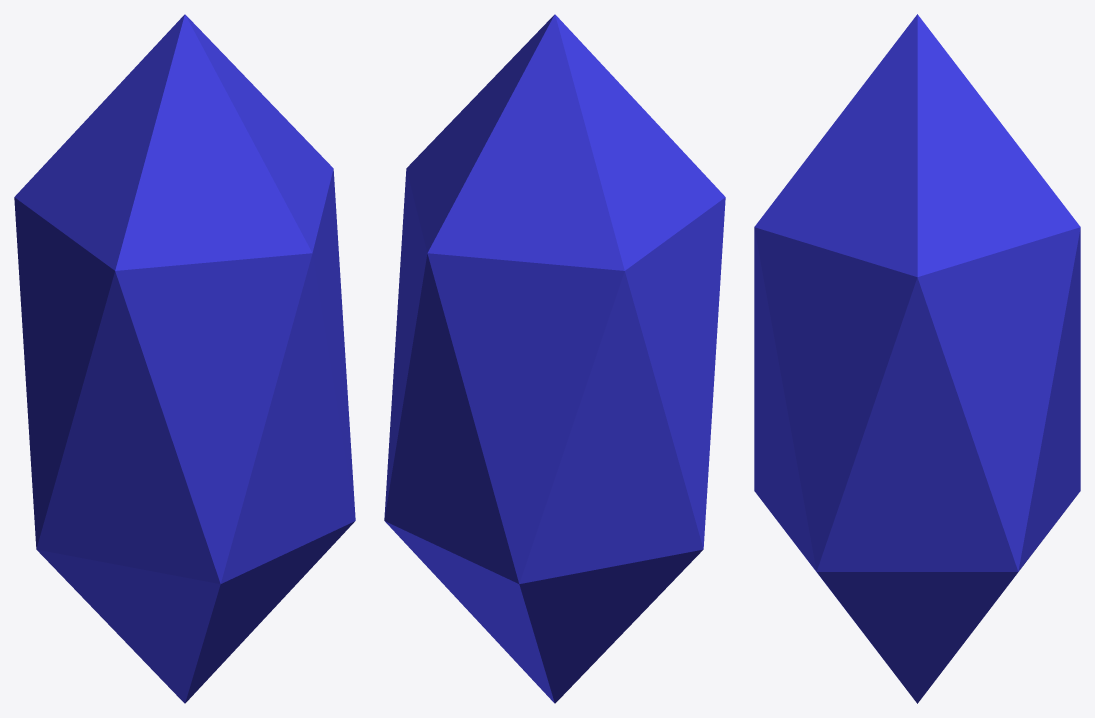
File: crystal.fbx
3 views of the same model, side by side, from view 1: azimuth 30°, elevation 25°; view 2: azimuth 150°, elevation 25°; view 3: azimuth 270°, elevation 25° (orthographic).
Visible parts, largest first — view 1: Crystal; view 2: Crystal; view 3: Crystal.
Part boxes in pixels (x1,y1,x2,y2): Crystal: (14,14,355,703); Crystal: (384,14,725,703); Crystal: (754,14,1080,703).
Bounding box in the file's own units: 10.13 × 22.46 × 9.63.
